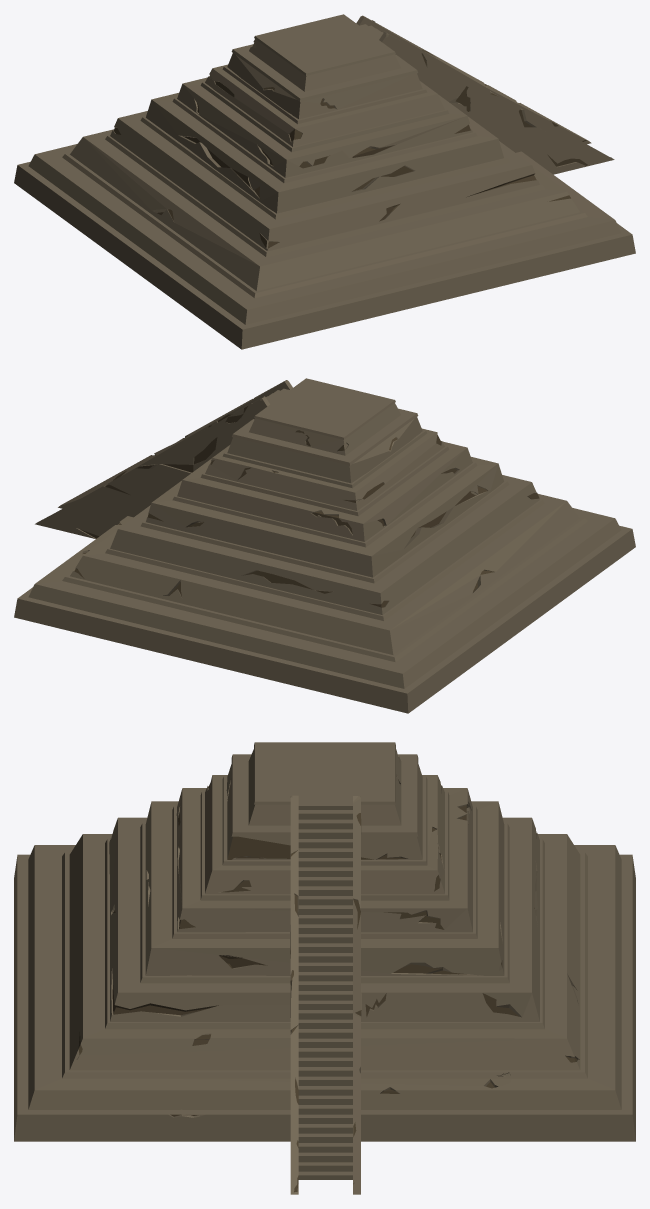
Rendered from Temple03.fbx.
3 views of the same model, one above another, from view 1: azimuth 30°, elevation 25°; view 2: azimuth 150°, elevation 25°; view 3: azimuth 270°, elevation 25° (orthographic). The views are drawn at different scales.
Visible parts, largest first — view 1: temple02.001; view 2: temple02.001; view 3: temple02.001.
Boxes of the visible parts, x1,y1,x2,y2 form: temple02.001: (14, 14, 635, 349); temple02.001: (14, 378, 635, 713); temple02.001: (14, 742, 635, 1194).
Bounding box in the file's own units: 27.3 × 9.97 × 22.69.
